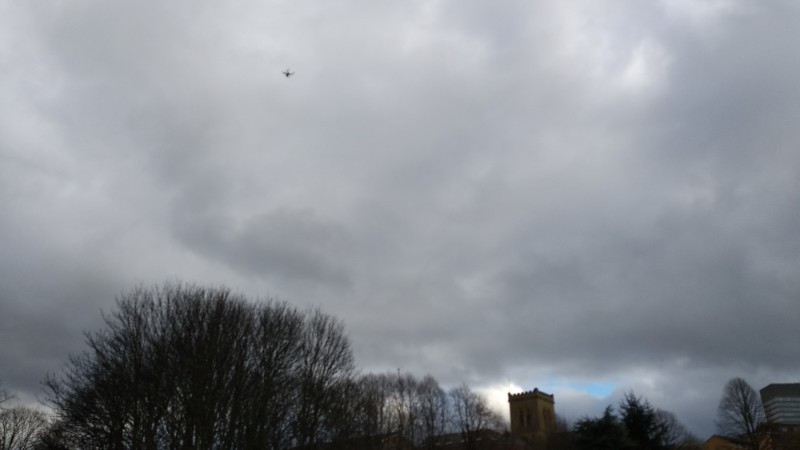drone: (282, 68, 295, 77)
